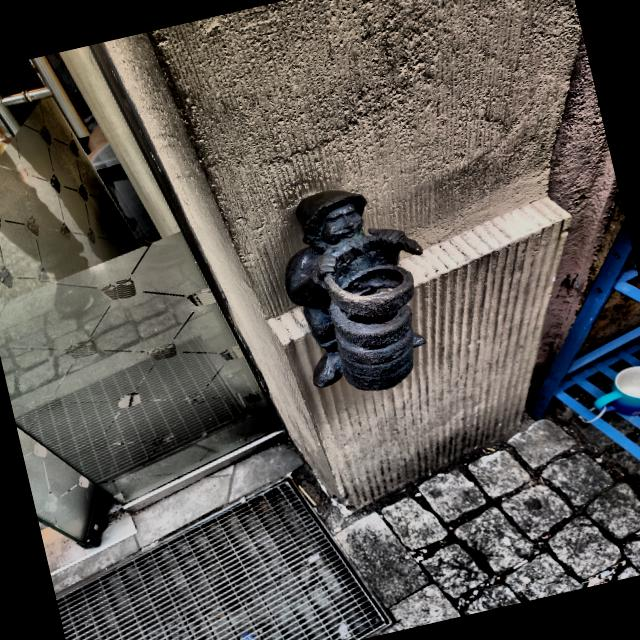Czimnejek: (285, 190, 424, 391)
